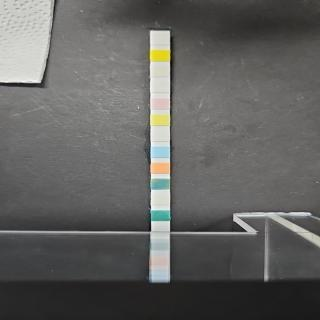mark: (151, 177, 170, 191), (150, 49, 170, 62), (151, 81, 170, 94), (151, 162, 170, 175), (151, 98, 171, 110), (150, 114, 170, 126), (151, 130, 170, 142), (151, 210, 170, 222), (151, 66, 170, 77), (151, 194, 170, 205), (152, 146, 169, 158), (150, 35, 170, 45)
